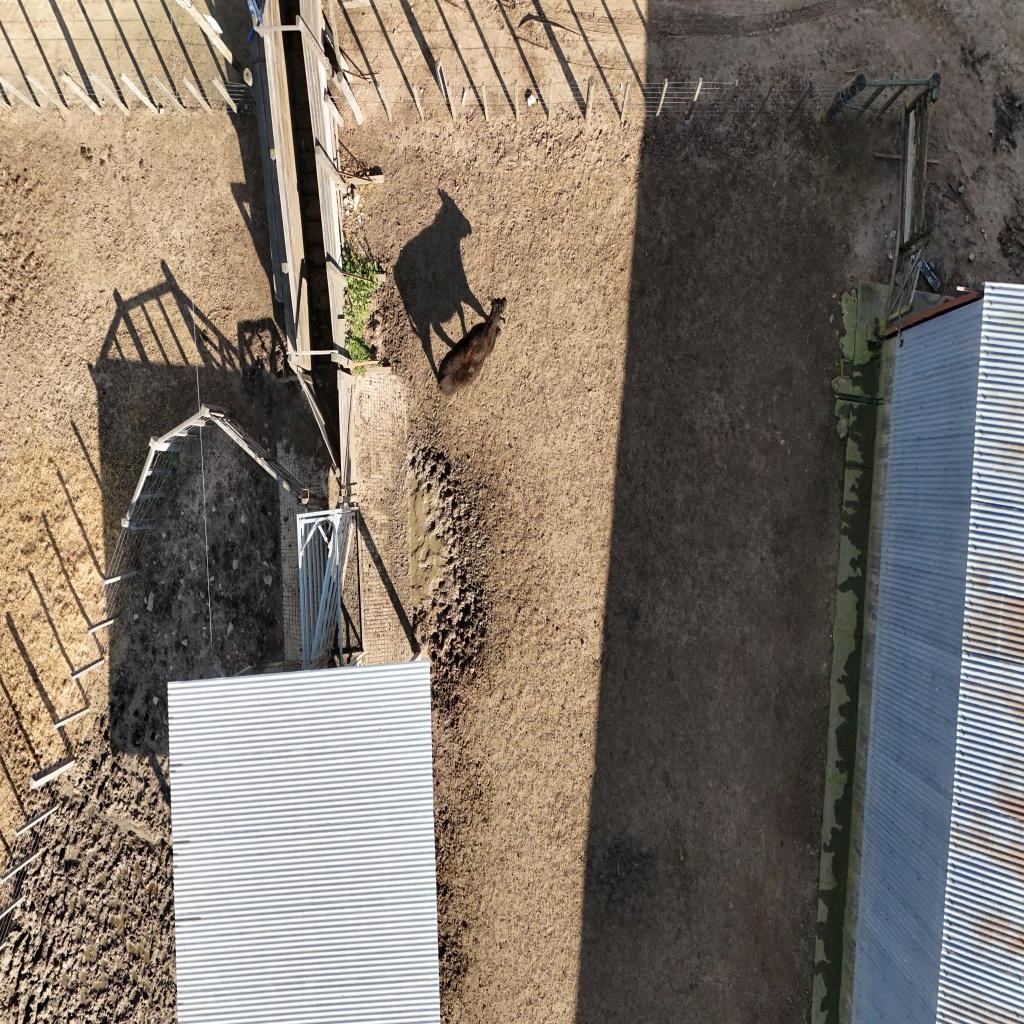cow: (432, 294, 510, 396)
